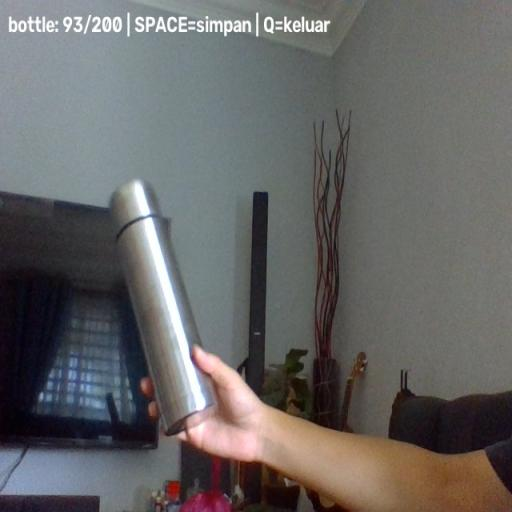Bottle: (108, 178, 218, 435)
